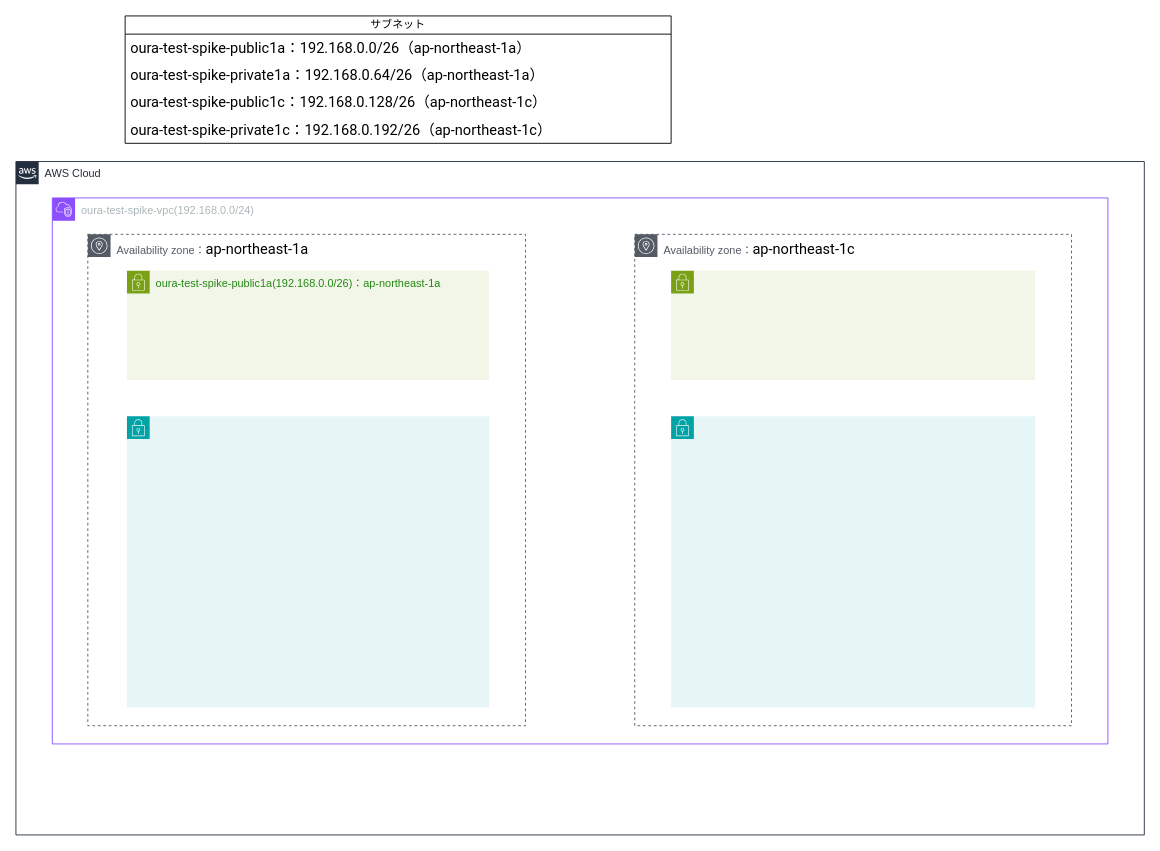
This 1160x851 diagram has some shape labels left out. Each missing label, with the centre of its shape:
oura-test-spike-private1a(192.168.0.64/26)：ap-northeast-1a: point 307,561
oura-test-spike-private1c(192.168.0.192/26)：ap-northeast-1c: point 852,561
oura-test-spike-public1c(192.168.0.128/26)：ap-northeast-1c: point 852,325
